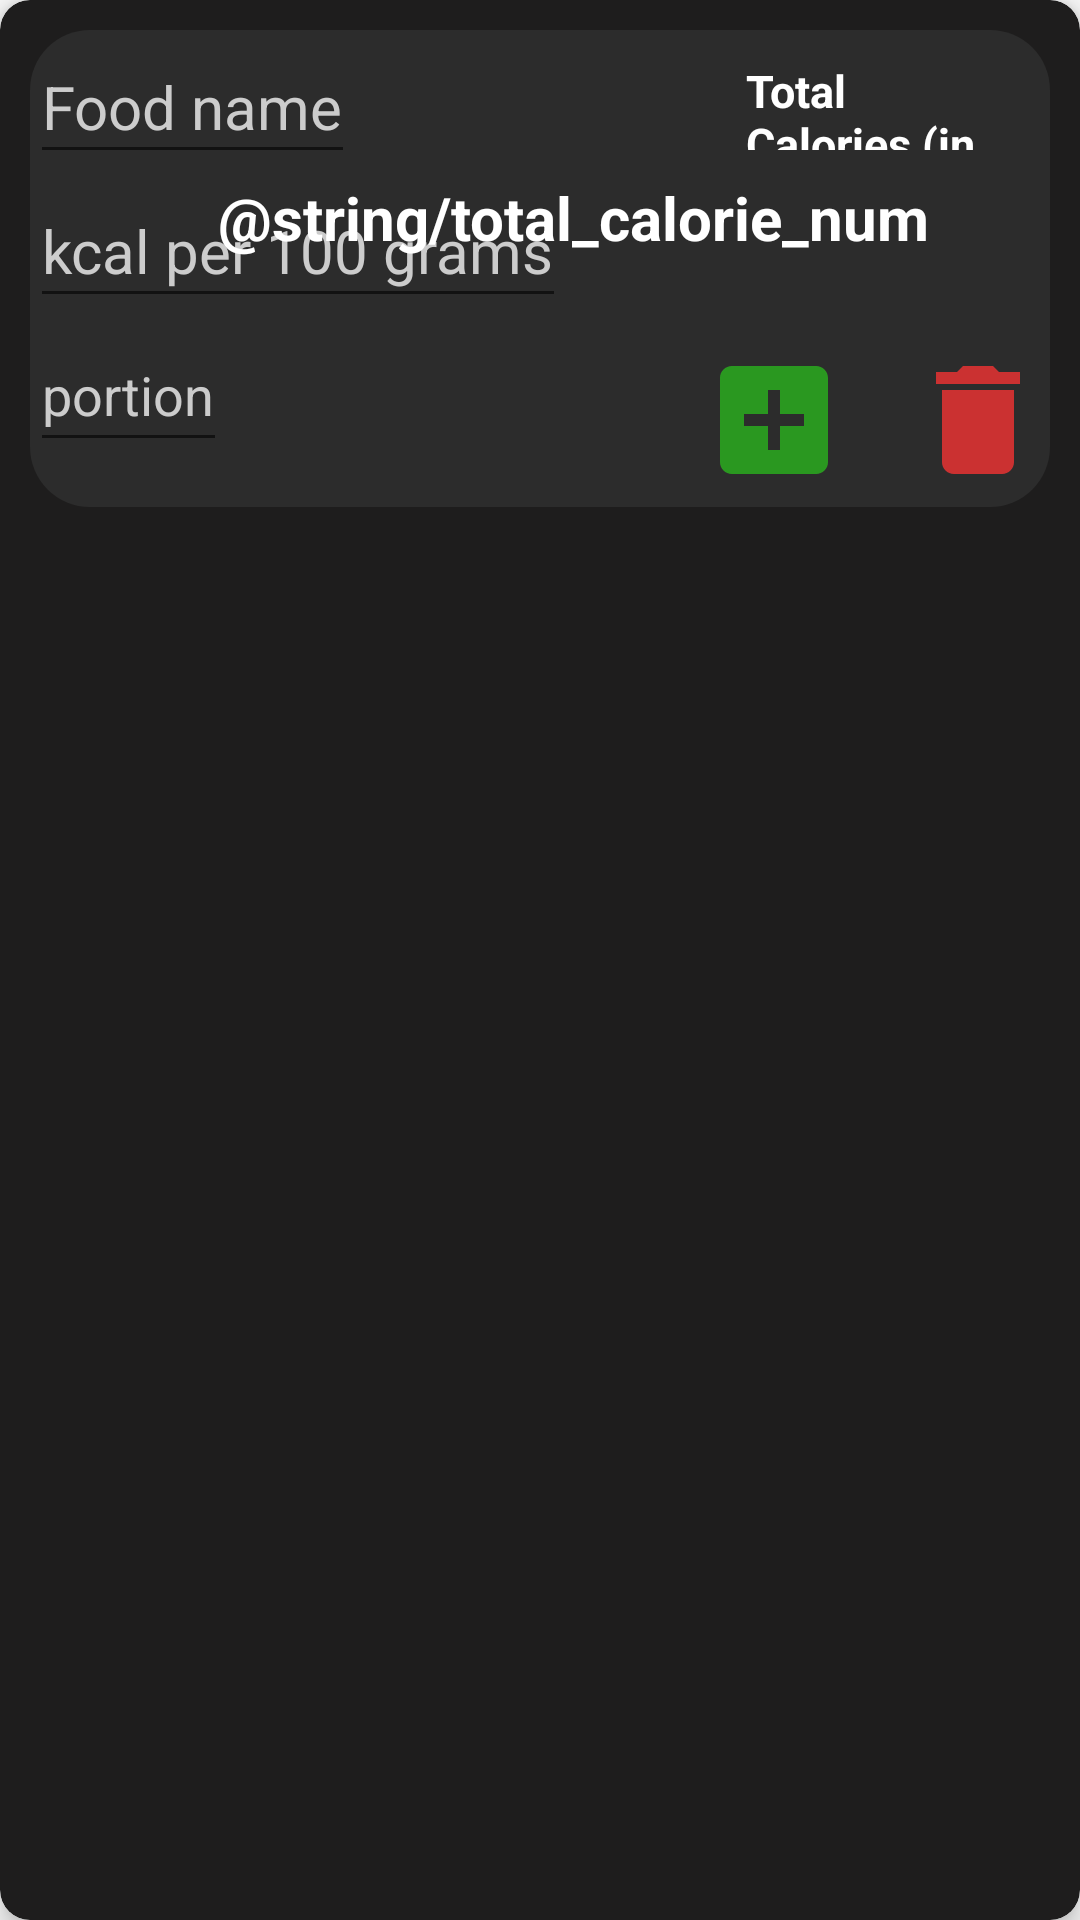

Icons on this 1080px x 1920px Android screen, each with the point to tap as (x=x, y=y):
confirm to add food to diary: (x=774, y=420)
